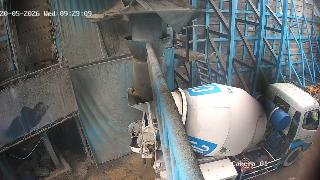cement_mixer_truck: (127, 82, 320, 180)
swing_chute: (123, 36, 170, 101)
